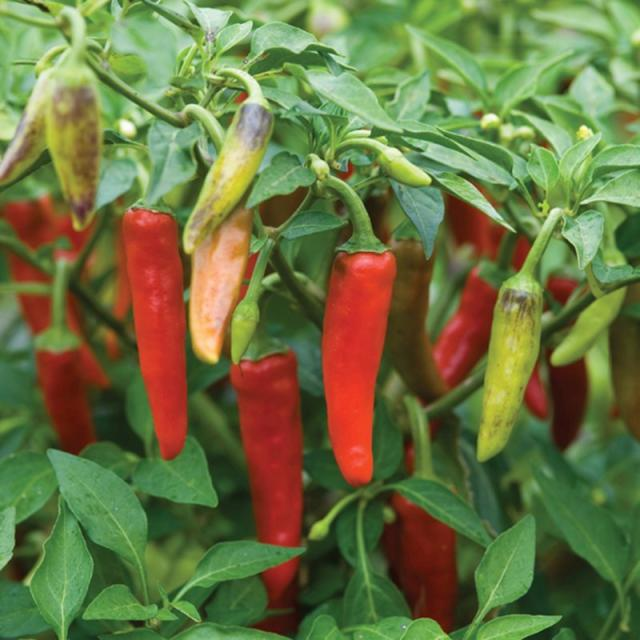Chilli Pepper: (282, 140, 416, 514), (228, 270, 324, 630), (392, 180, 522, 428), (96, 138, 190, 480), (452, 194, 556, 488), (346, 438, 484, 640), (150, 54, 286, 250), (16, 44, 132, 246)
